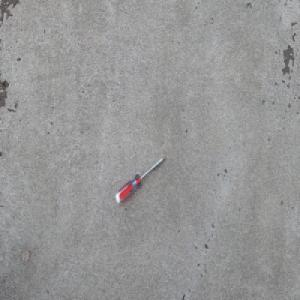Screwdriver: (115, 155, 166, 204)
